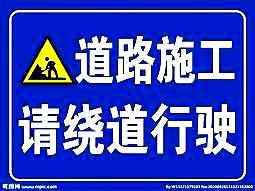sign: (7, 5, 247, 183)
